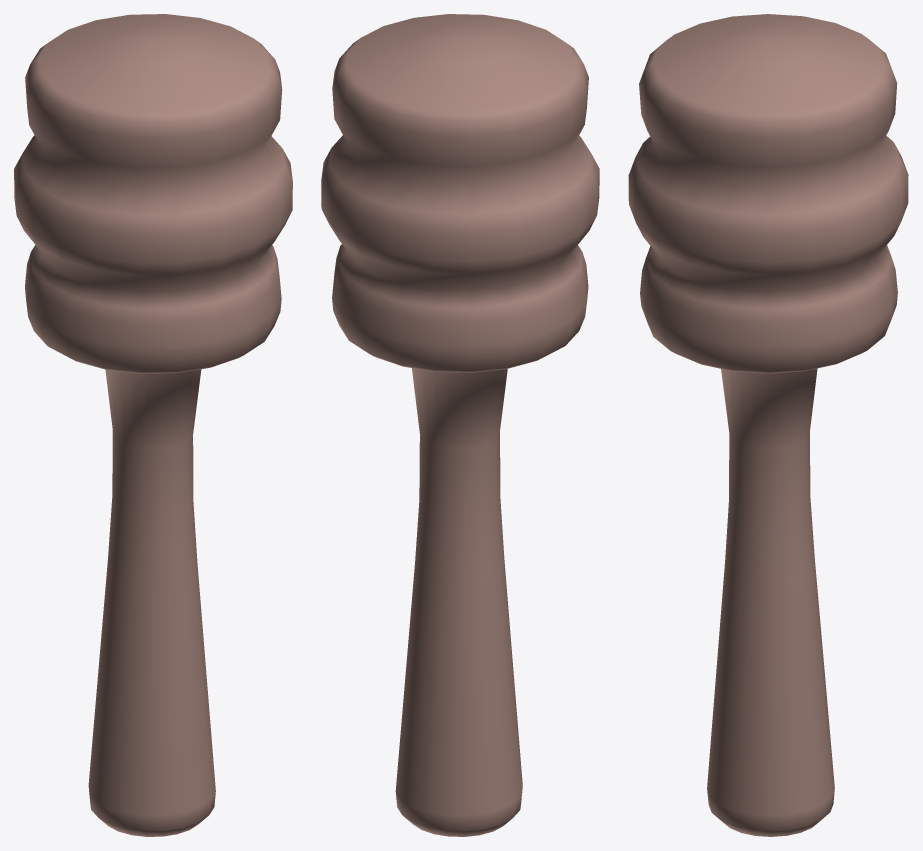
File: Farm_10_Honey_Spoon_1.glb
3 renders of one model, left to right at view 1: azimuth 30°, elevation 25°; view 2: azimuth 150°, elevation 25°; view 3: azimuth 270°, elevation 25°, orthographic.
Visible parts, largest first — view 1: Farm_10_Honey_Spoon_1; view 2: Farm_10_Honey_Spoon_1; view 3: Farm_10_Honey_Spoon_1.
Boxes of the visible parts, x1,y1,x2,y2 form: Farm_10_Honey_Spoon_1: (14,14,292,836); Farm_10_Honey_Spoon_1: (321,14,599,836); Farm_10_Honey_Spoon_1: (628,14,908,836).
Size of the model in its own units: 0.1065 by 0.328 by 0.1065.
Materials: 1 (1 with a texture image).
